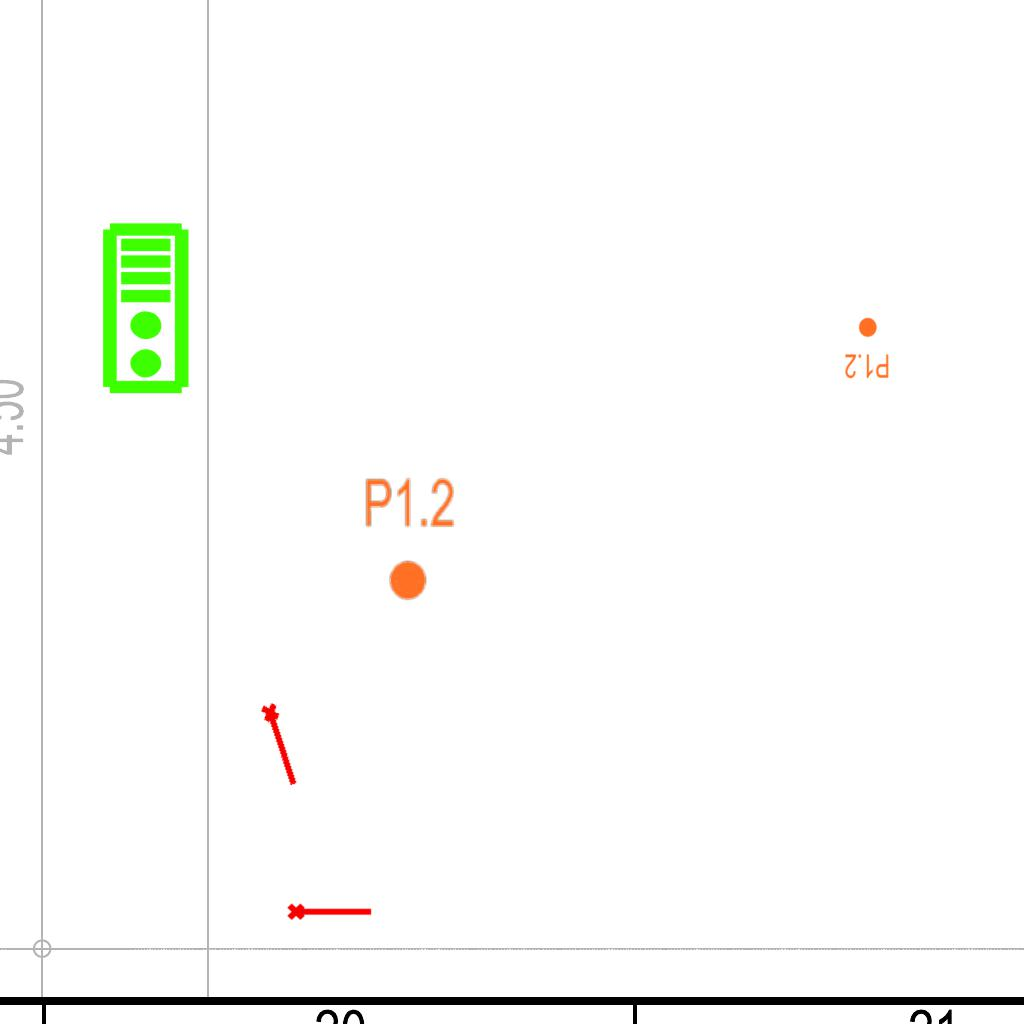ASR_Ansaugoeffnung: (257, 699, 307, 790), (286, 899, 374, 922)
Downlight_LED_Einbauleuchten_Flur: (363, 475, 456, 603), (844, 316, 890, 380)
Gegensprechanlage_mit_Video: (100, 221, 195, 397)
